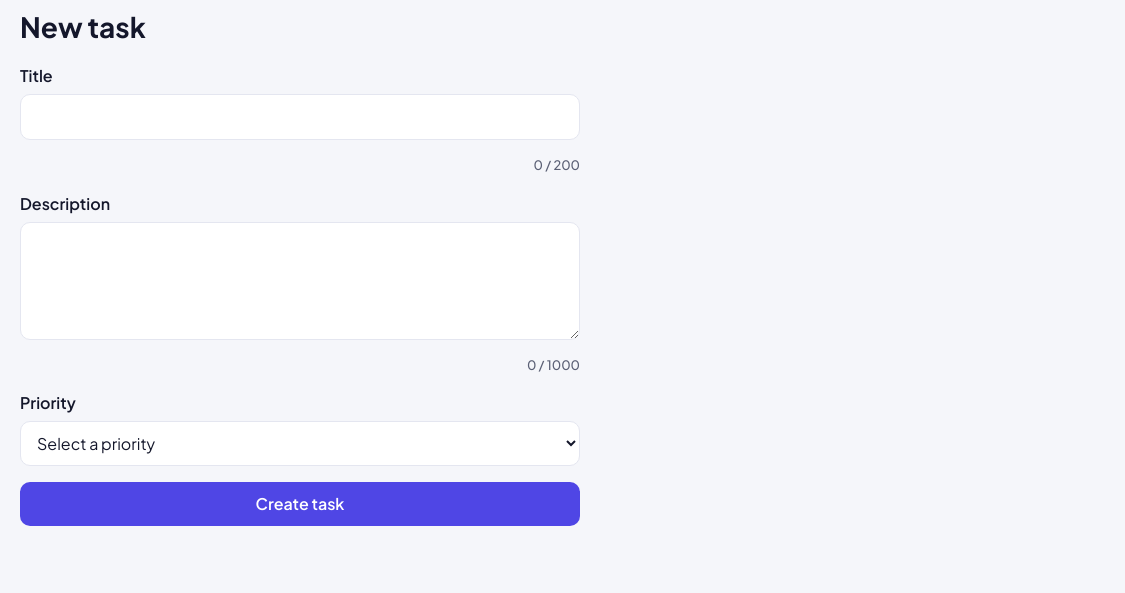
CreateTaskPage › shows the API duplicate message when the title already exists today
In the field labelled "Title": x=300, y=117 left=20, top=94, right=580, bottom=140, type "Write the report"
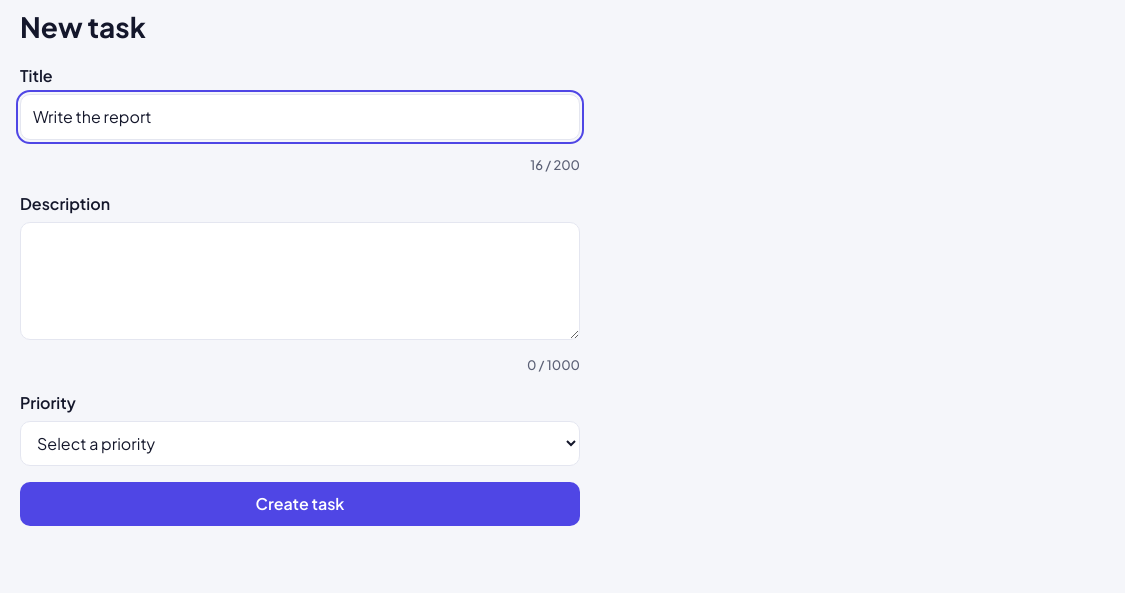
Select "High" in the dropdown labelled "Priority": x=300, y=444 left=20, top=421, right=580, bottom=466
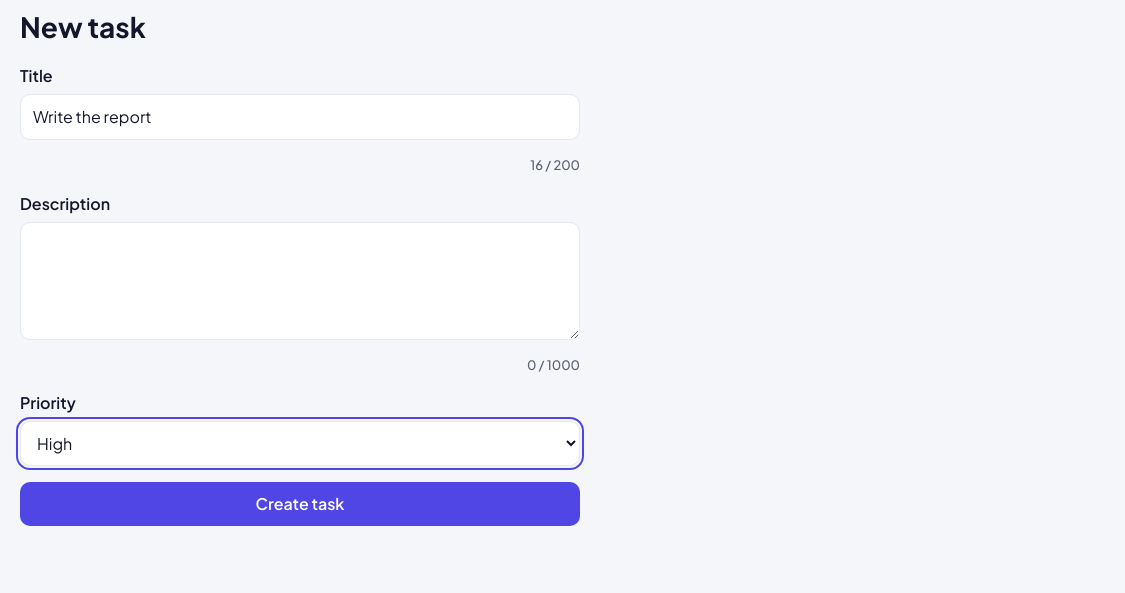
Click the button "Create task": x=300, y=504 left=20, top=482, right=580, bottom=526
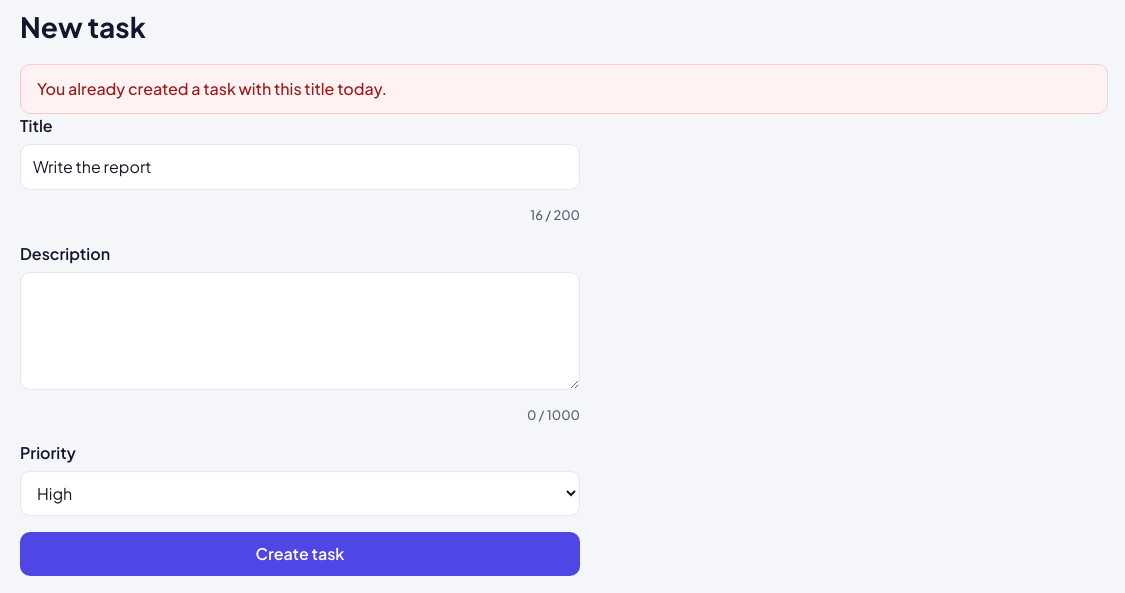
Check: the message reads "You already created a task with this title today.", box left=37, top=78, right=387, bottom=99
